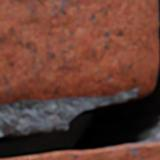brick: (0, 0, 157, 104), (6, 143, 159, 159)
crack: (0, 0, 159, 159)
